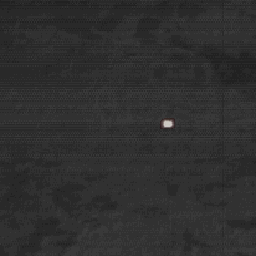Target: (159, 117, 174, 128)
